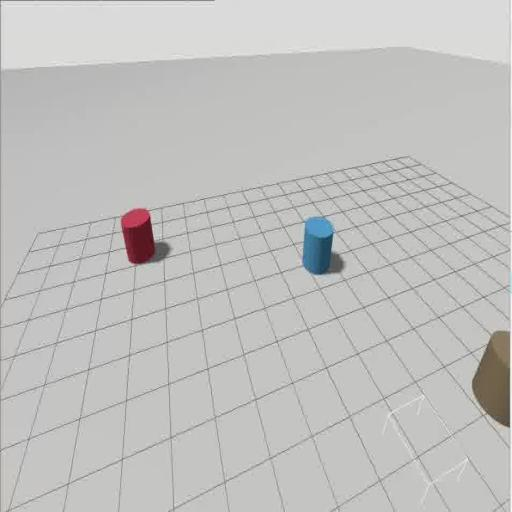cylinder: (472, 330, 509, 427), (121, 209, 170, 264), (303, 217, 343, 272)
